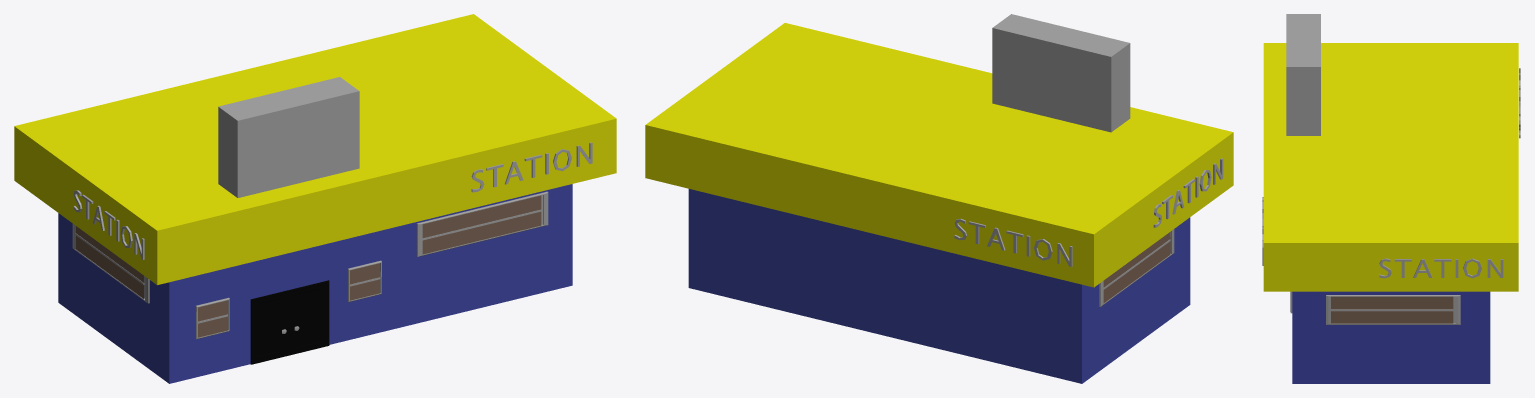
File: TrainStation.fbx
3 renders of one model, left to right at view 1: azimuth 30°, elevation 25°; view 2: azimuth 150°, elevation 25°; view 3: azimuth 270°, elevation 25°, orthographic. The views are drawn at different scales.
Visible parts, largest first — view 1: pCube349, pCube348, pCube350, pSphere40, polySurface752, polySurface754, polySurface751, polySurface750, typeMesh3, typeMesh6; view 2: pCube349, pCube348, pCube350, polySurface754, typeMesh4, typeMesh6; view 3: pCube349, pCube348, pCube350, polySurface753, typeMesh5.
Part boxes in pixels (left/top/right/bottom): pCube349: left=14, top=14, right=616, bottom=285; pCube348: left=58, top=184, right=572, bottom=383; pCube350: left=218, top=77, right=359, bottom=197; pSphere40: left=250, top=280, right=329, bottom=364; polySurface752: left=416, top=191, right=548, bottom=256; polySurface754: left=72, top=224, right=149, bottom=303; polySurface751: left=347, top=260, right=381, bottom=302; polySurface750: left=195, top=297, right=229, bottom=339; typeMesh3: left=471, top=142, right=592, bottom=192; typeMesh6: left=73, top=190, right=144, bottom=259; pCube349: left=645, top=23, right=1233, bottom=287; pCube348: left=688, top=189, right=1190, bottom=383; pCube350: left=992, top=14, right=1130, bottom=132; polySurface754: left=1099, top=229, right=1174, bottom=306; typeMesh4: left=954, top=218, right=1072, bottom=266; typeMesh6: left=1153, top=158, right=1223, bottom=227; pCube349: left=1263, top=43, right=1518, bottom=291; pCube348: left=1292, top=291, right=1490, bottom=383; pCube350: left=1286, top=14, right=1320, bottom=135; polySurface753: left=1326, top=295, right=1460, bottom=324; typeMesh5: left=1379, top=258, right=1503, bottom=278.
Size of the model in its own units: 372 by 192 by 202.
